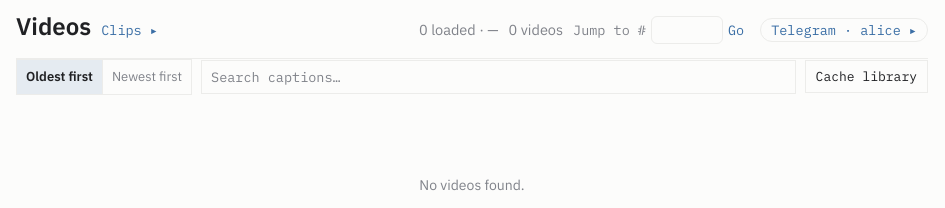
App search input › the clear button resets the search immediately, without waiting for the debounce
This screenshot has width=945, height=208.
Type "sunset" into the search field named "Search videos" at (498, 77), box [201,60,796,94]
Wait 300 ms
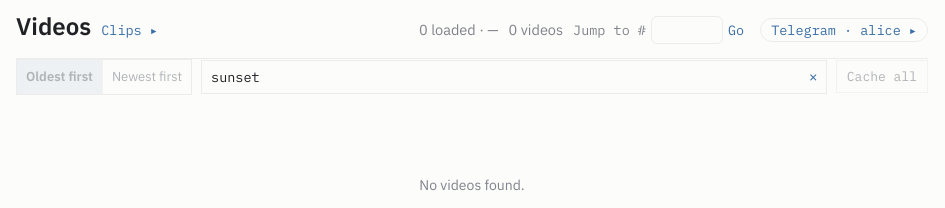
Click the button named "Clear search" at (813, 77), box [807,67,820,86]
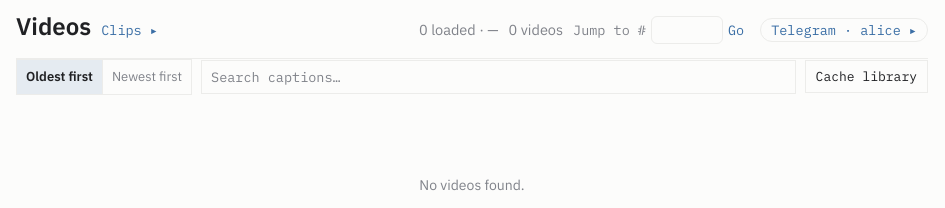
Expected: the search field named "Search videos" is empty, [201,60,796,94]
